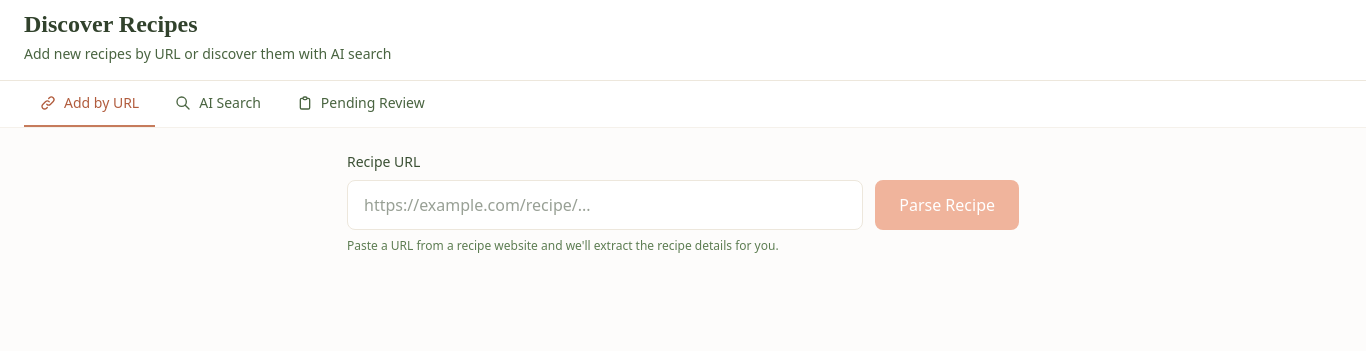
Test: DiscoverPage › URL Parser › handles duplicate detection
The image size is (1366, 351).
Type "https://example.com/recipe" into the field with placeholder "https://example.com/recipe/...".
click(605, 205); type("https://example.com/recipe")  # box top-left (347, 180), bottom-right (863, 230)
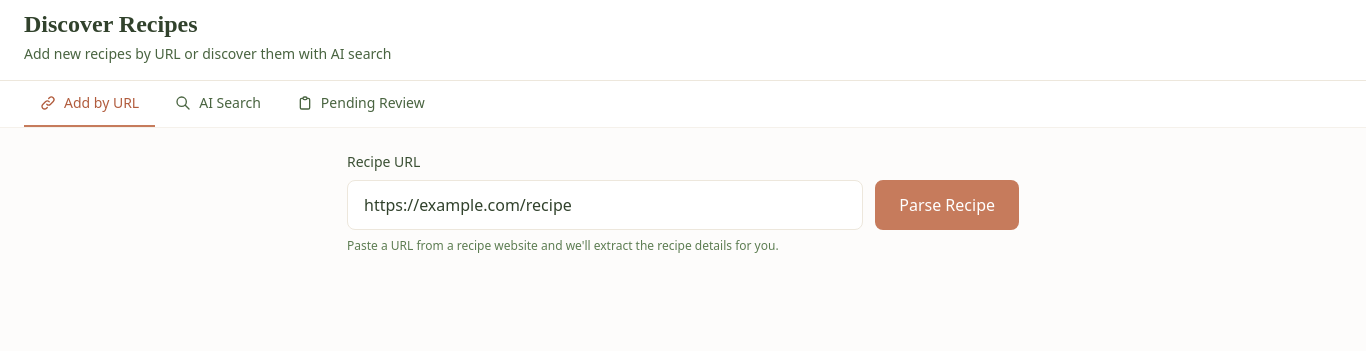
Click the button "Parse Recipe".
click(947, 205)  # box top-left (875, 180), bottom-right (1019, 230)
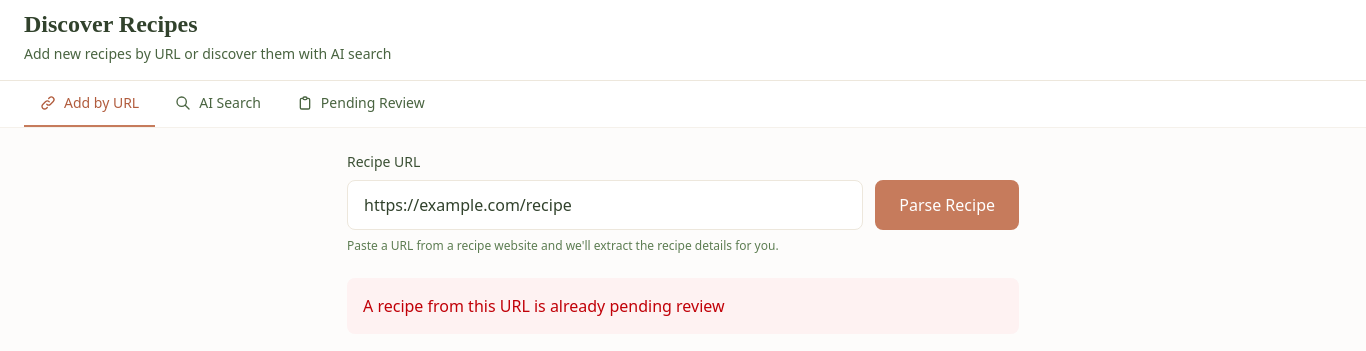
Check: the text "A recipe from this URL is already pending review" is shown, box top-left (347, 278), bottom-right (1019, 334)
